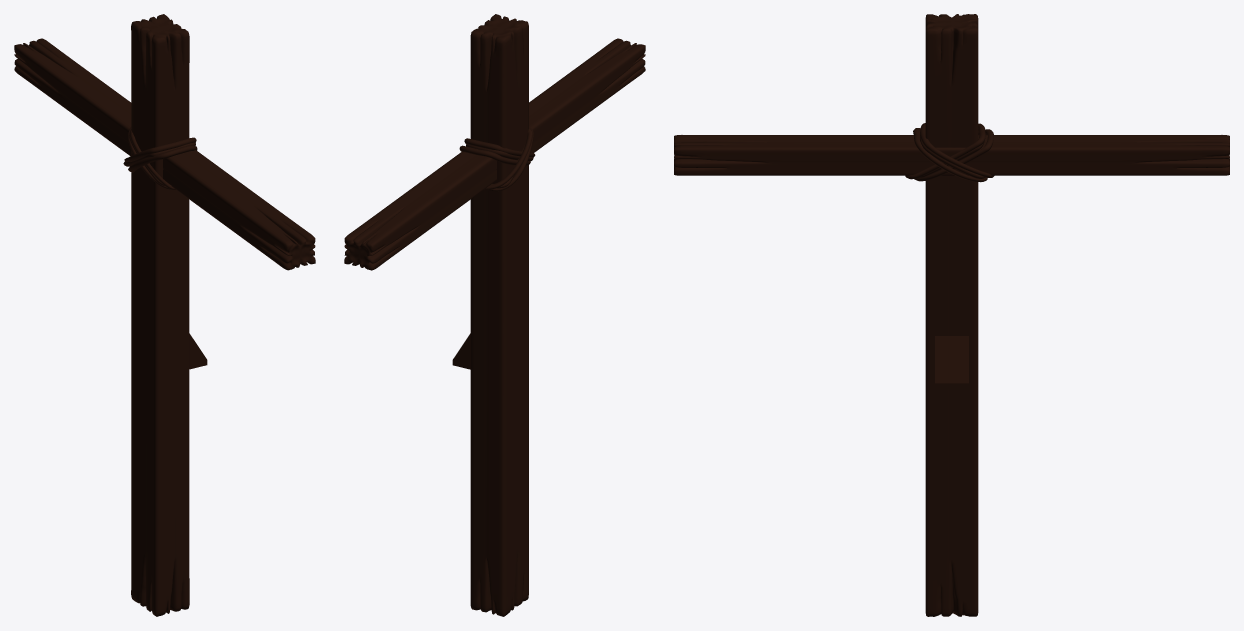
Rendered from Cross_middle.obj.
3 renders of one model, left to right at view 1: azimuth 30°, elevation 25°; view 2: azimuth 150°, elevation 25°; view 3: azimuth 270°, elevation 25°, orthographic.
Parts seen in each view (by area): view 1: Cross_middle; view 2: Cross_middle; view 3: Cross_middle.
Part boxes in pixels (x1,y1,x2,y2): Cross_middle: (14, 14, 315, 616); Cross_middle: (344, 14, 645, 616); Cross_middle: (674, 14, 1229, 616).
Bounding box in the file's own units: 0.1 × 0.8526 × 0.7316.
